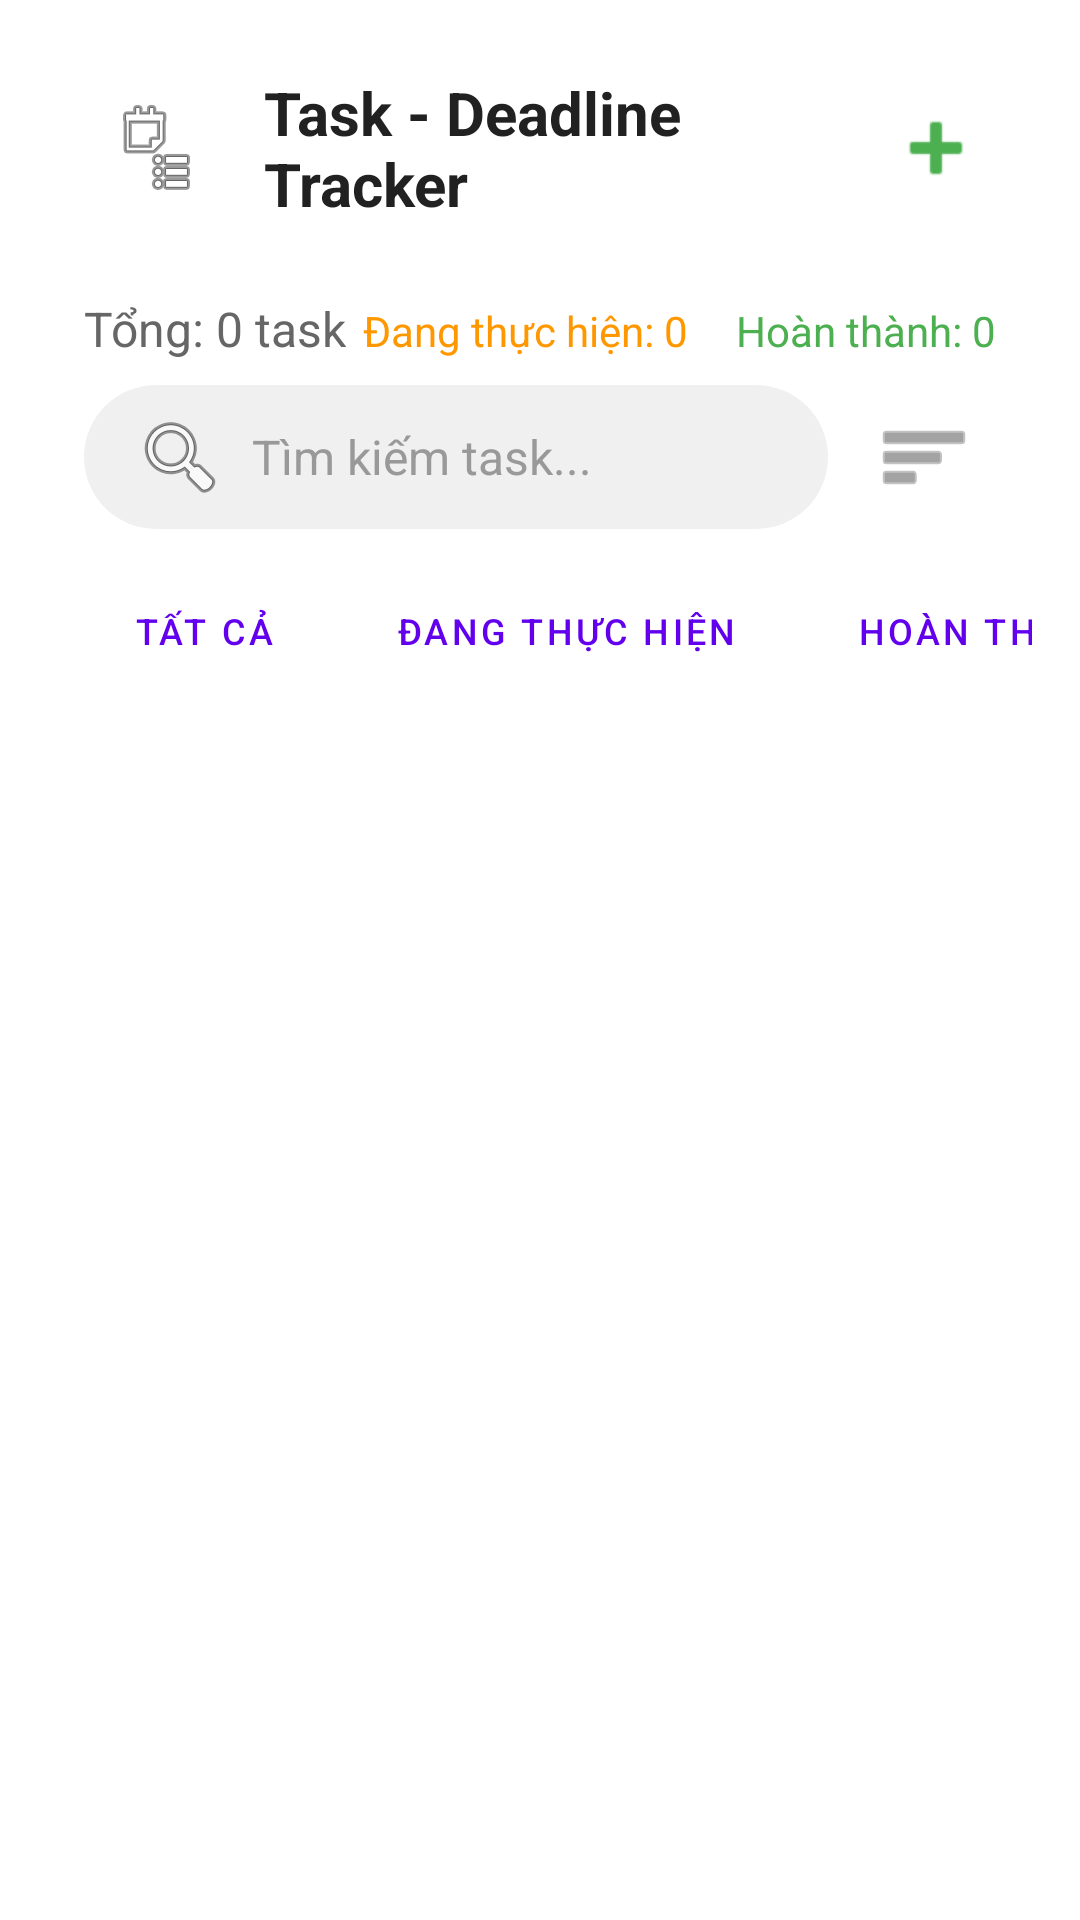

Where icons sit on this 1080x1920 app screen, as (x1, y1, x2, y2):
Bộ lọc: (883, 431, 965, 484)
Thêm mới: (909, 121, 963, 175)
